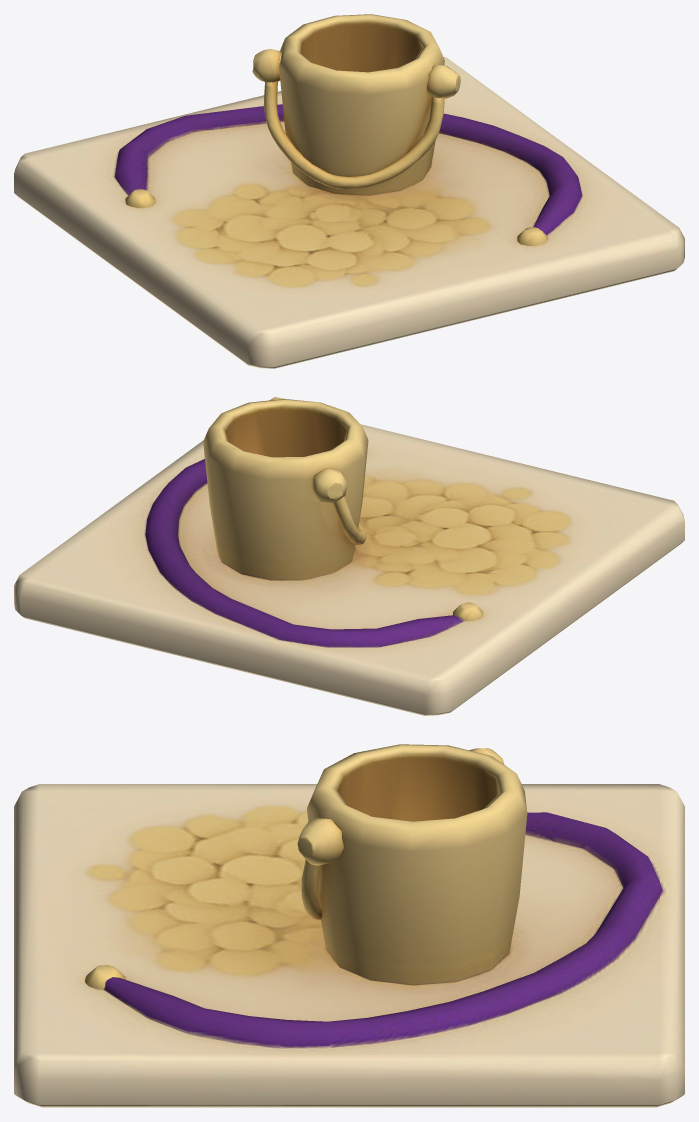
File: vip.glb
The picture shows the model from 3 angles, top to bottom: view 1: azimuth 30°, elevation 25°; view 2: azimuth 150°, elevation 25°; view 3: azimuth 270°, elevation 25°; orthographic projection. The views are drawn at different scales.
Parts seen in each view (by area): view 1: tripo_node_e6dc9453-36bc-4202-8c3b-4985fff53133; view 2: tripo_node_e6dc9453-36bc-4202-8c3b-4985fff53133; view 3: tripo_node_e6dc9453-36bc-4202-8c3b-4985fff53133.
Part boxes in pixels (left/top/right/bottom): tripo_node_e6dc9453-36bc-4202-8c3b-4985fff53133: left=14, top=14, right=684, bottom=368; tripo_node_e6dc9453-36bc-4202-8c3b-4985fff53133: left=14, top=397, right=684, bottom=715; tripo_node_e6dc9453-36bc-4202-8c3b-4985fff53133: left=14, top=744, right=684, bottom=1107.
Bounding box in the file's own units: 0.998 × 0.3418 × 0.998.
Materials: 1 (1 with a texture image).
